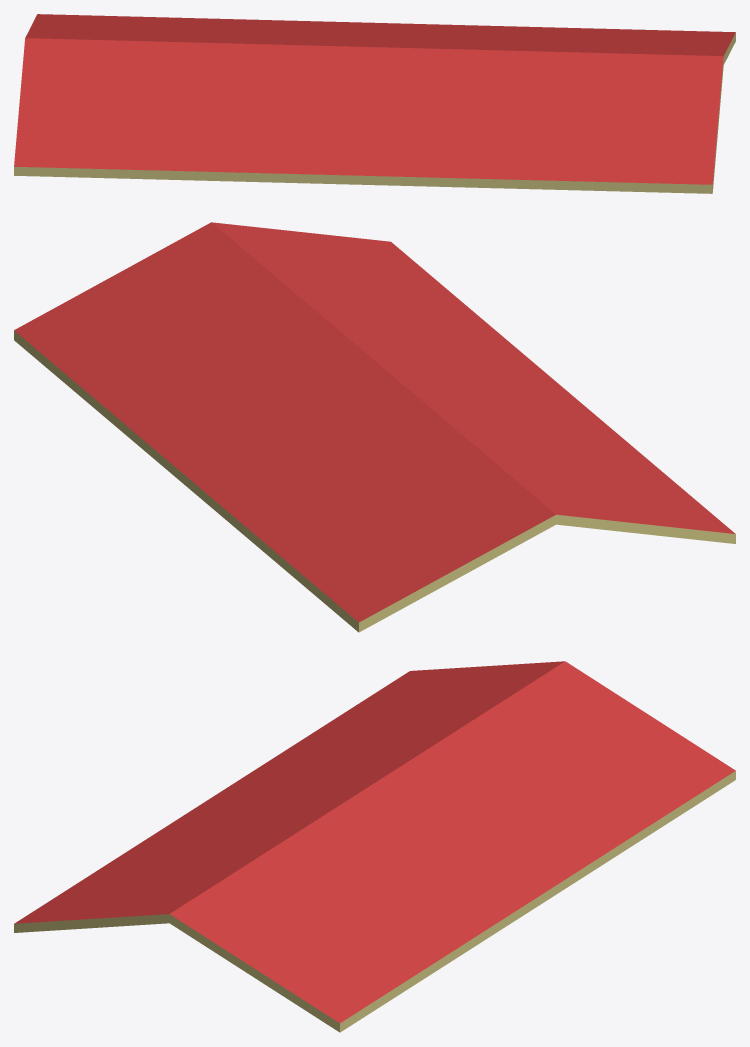
The picture shows the model from 3 angles, top to bottom: view 1: azimuth 30°, elevation 25°; view 2: azimuth 150°, elevation 25°; view 3: azimuth 270°, elevation 25°; orthographic projection. The views are drawn at different scales.
Size of the model in its own units: 7.94 by 7.05 by 0.764.
